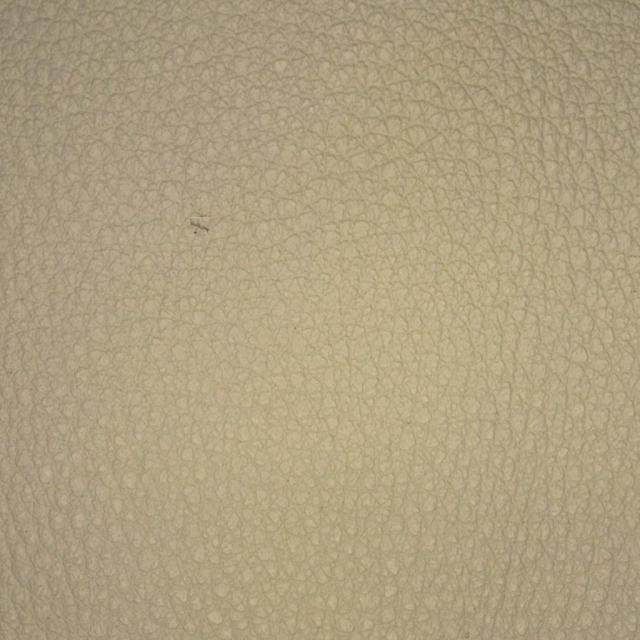Scratch: (102, 152, 290, 292)
